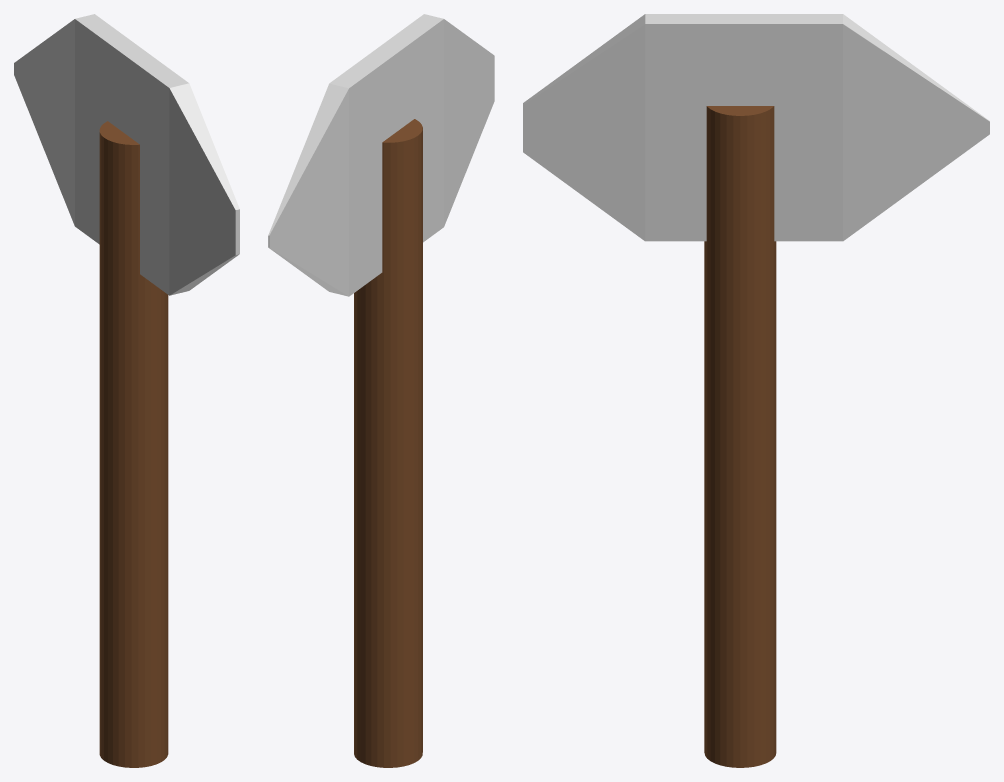
File: Axe2.fbx
3 renders of one model, left to right at view 1: azimuth 30°, elevation 25°; view 2: azimuth 150°, elevation 25°; view 3: azimuth 270°, elevation 25°, orthographic. The views are drawn at different scales.
Visible parts, largest first — view 1: Cylinder; view 2: Cylinder; view 3: Cylinder.
Boxes of the visible parts, left/top/right/bottom form: Cylinder: left=14, top=14, right=239, bottom=767; Cylinder: left=268, top=14, right=494, bottom=767; Cylinder: left=523, top=14, right=989, bottom=767.
Size of the model in its own units: 60 by 675 by 389.
